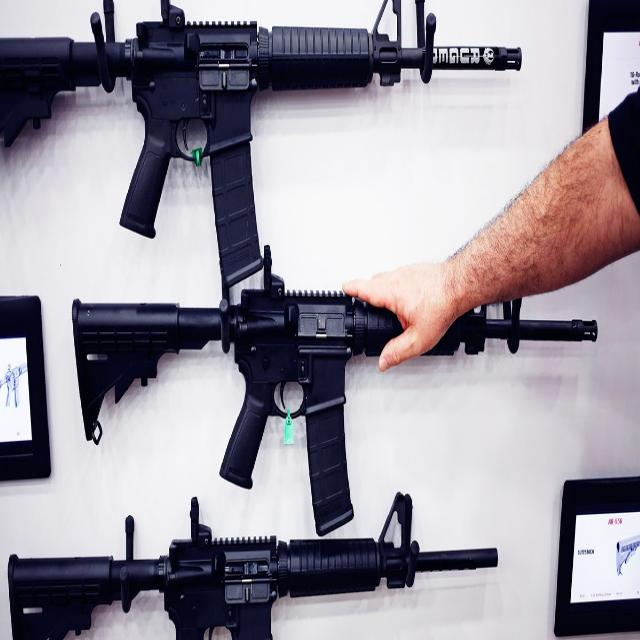Rifle: (0, 0, 524, 290), (73, 293, 599, 535)
